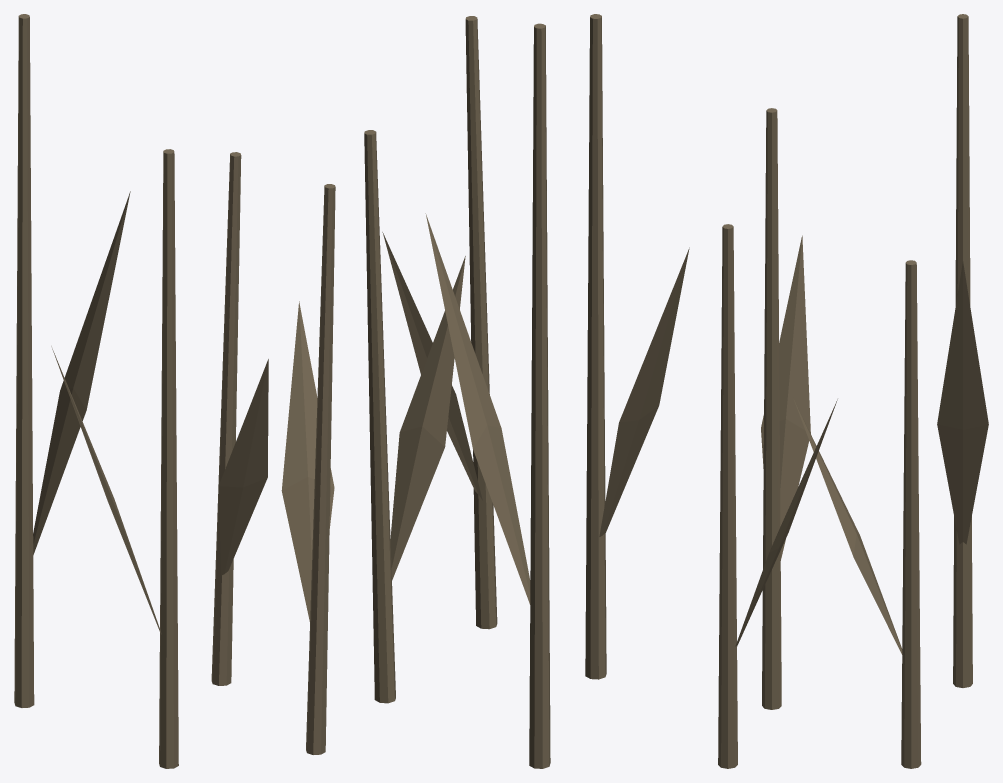
The model's file is reeds_2_winter.glb.
3 renders of one model, left to right at view 1: azimuth 30°, elevation 25°; view 2: azimuth 150°, elevation 25°; view 3: azimuth 270°, elevation 25°, orthographic. The views are drawn at different scales.
Visible parts, largest first — view 1: reeds_2_winter; view 2: reeds_2_winter; view 3: reeds_2_winter.
Part boxes in pixels (x1,y1,x2,y2): reeds_2_winter: (14,14,335,768); reeds_2_winter: (364,14,689,768); reeds_2_winter: (718,14,988,768).
Size of the model in its own units: 0.7534 by 1.85 by 0.68.
